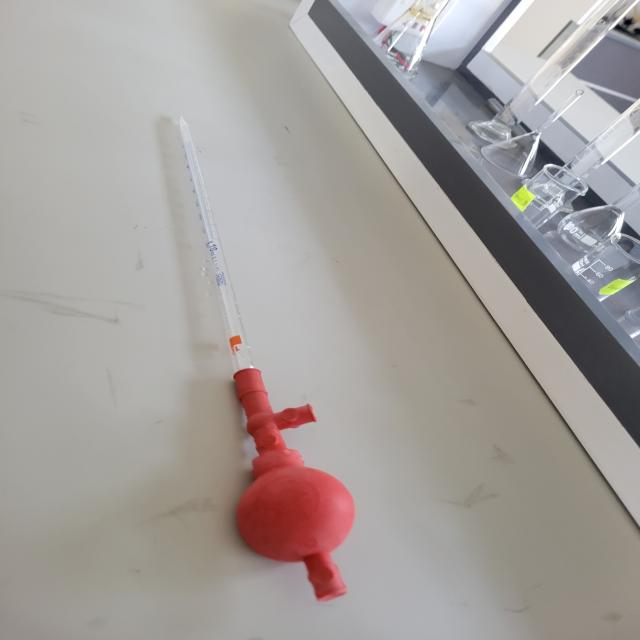Volumetric_Pipet: (144, 89, 379, 633)
